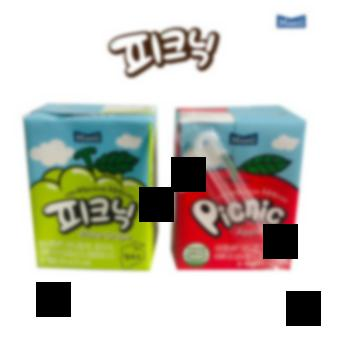picnic_apple: (172, 102, 309, 280)
